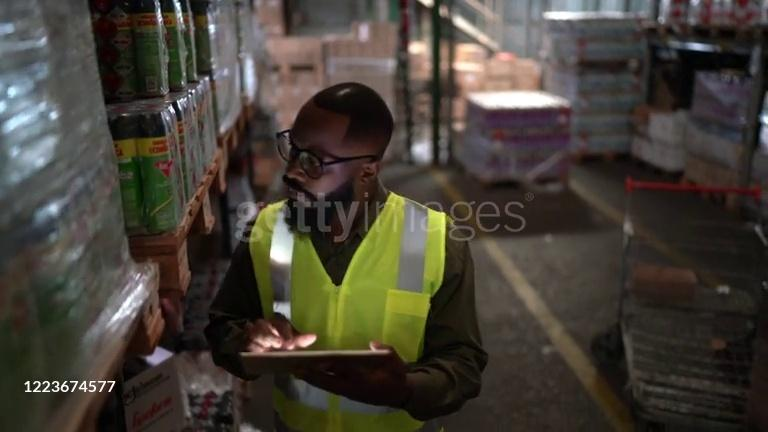person: (199, 83, 490, 432)
